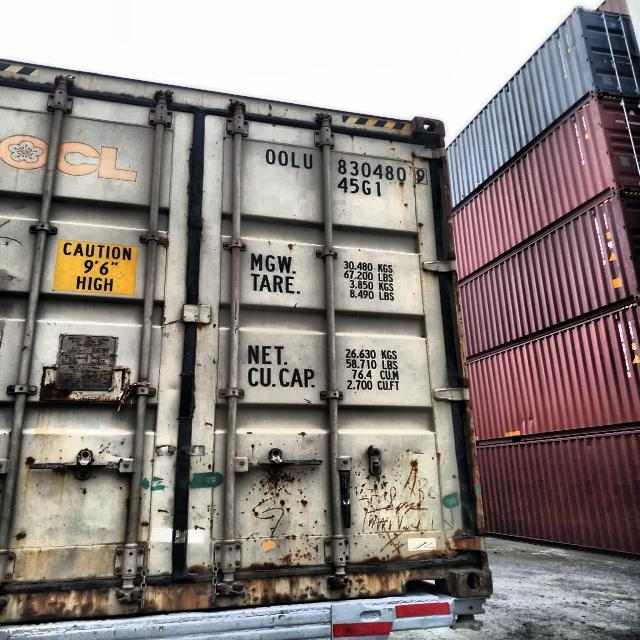ISO: (339, 170, 386, 197)
container_number: (266, 147, 426, 184)
